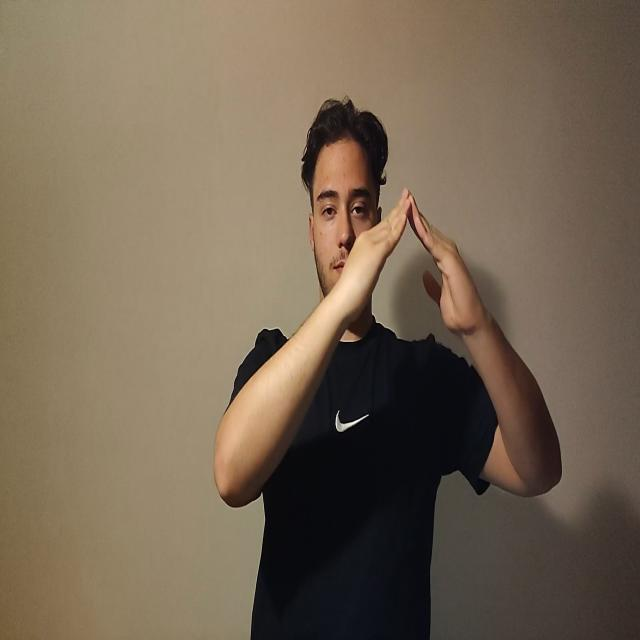house: (328, 187, 479, 346)
